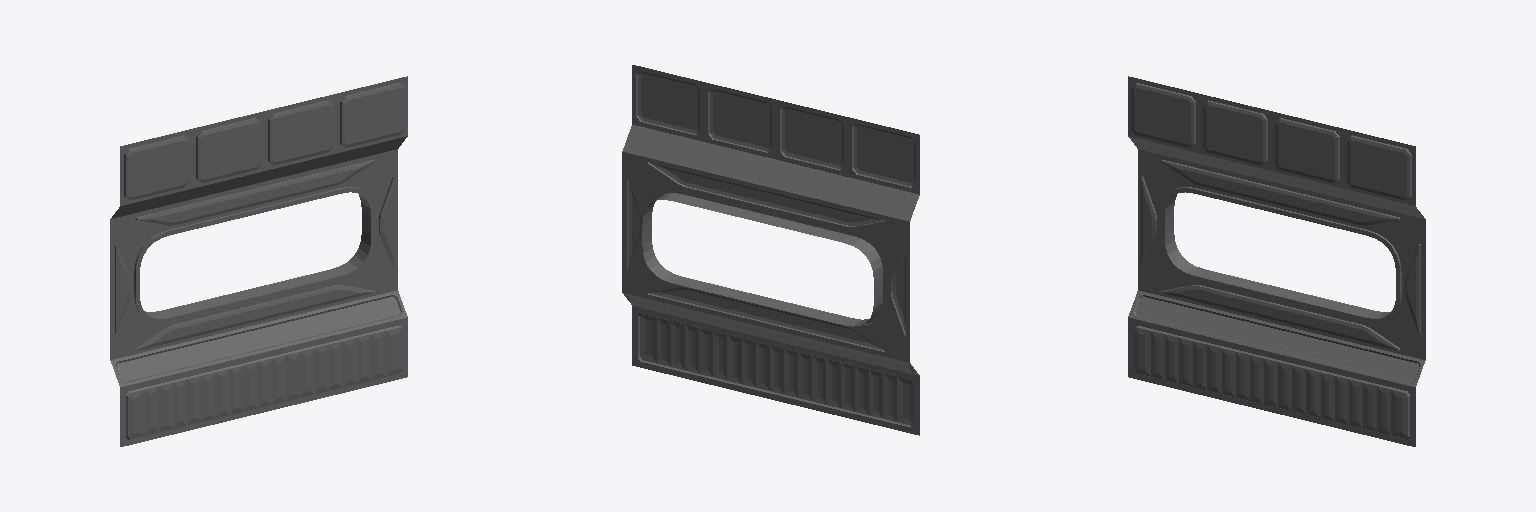
File: Wall02_HP.obj
3 views of the same model, side by side, from view 1: azimuth 30°, elevation 25°; view 2: azimuth 150°, elevation 25°; view 3: azimuth 330°, elevation 25° (orthographic).
Visible parts, largest first — view 1: Plane001; view 2: Plane001; view 3: Plane001.
Boxes of the visible parts, box(x1,y1,x2,y2) form: Plane001: box(110, 76, 407, 446); Plane001: box(622, 65, 919, 435); Plane001: box(1128, 76, 1425, 446).
Size of the model in its own units: 512 by 512 by 60.69.